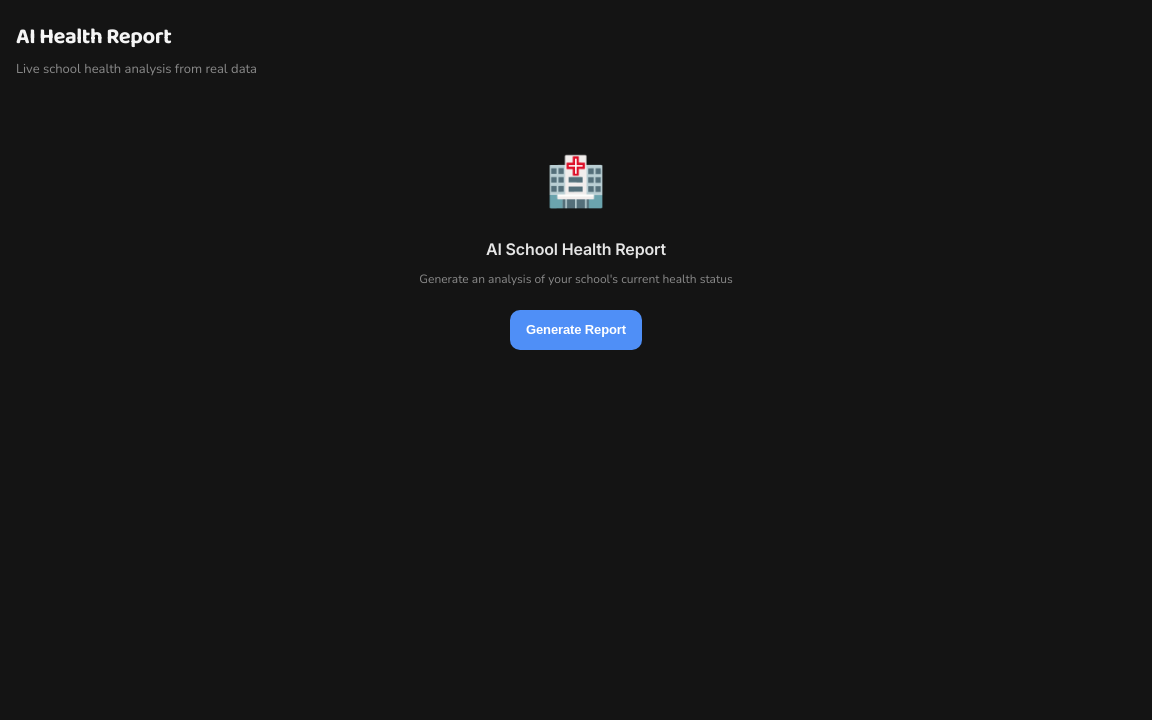
Scenario: unmarked attendance is excluded from the score, not scored as zero
Click the button "Generate Report": (576, 330) [510,310,642,350]
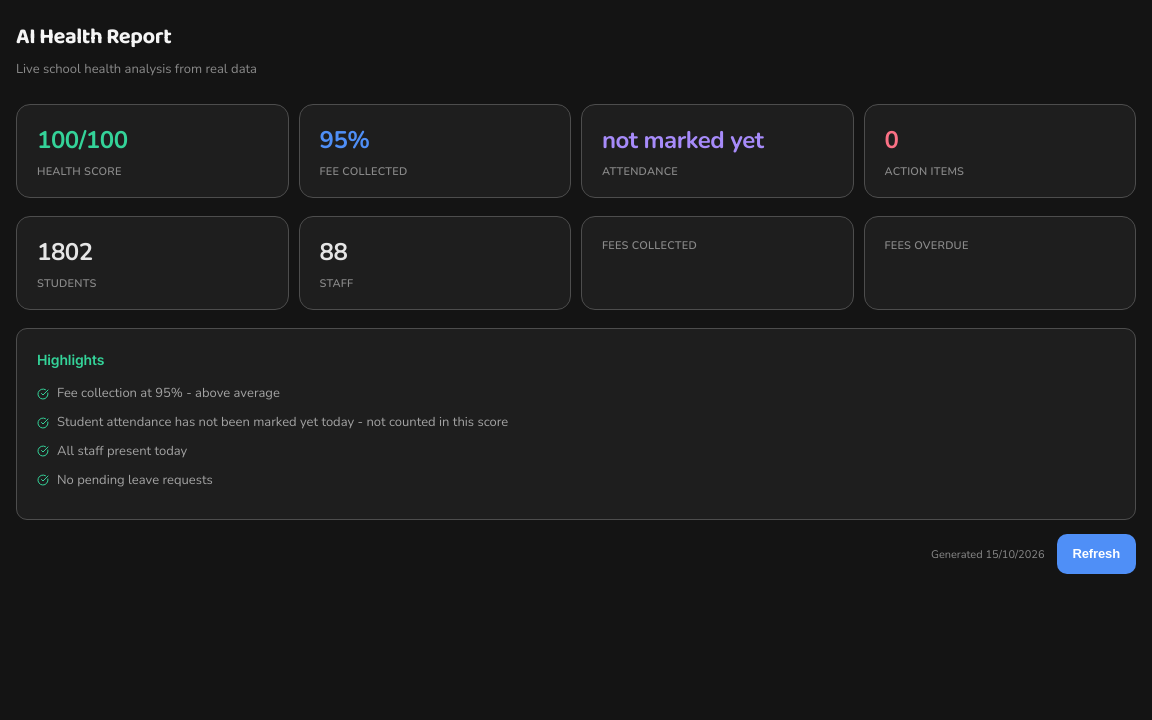
Expected: the text "has not been marked yet today" is shown, [57,413,508,431]
